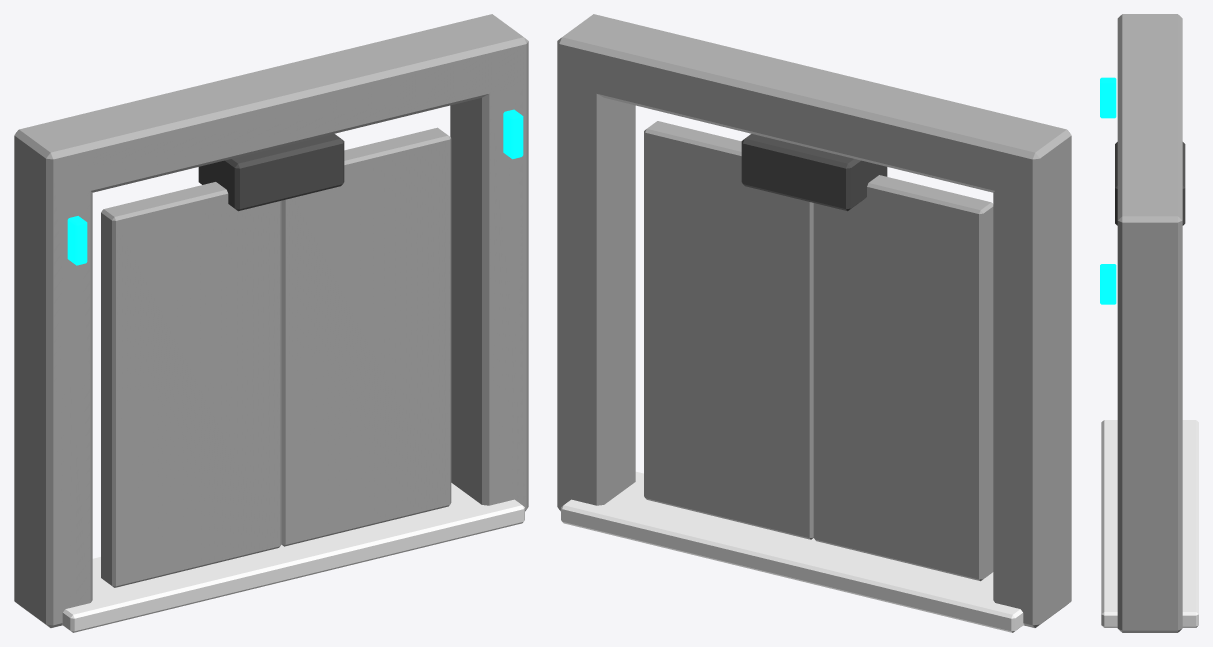
Rendered from pressure_door_1x1.glb.
The picture shows the model from 3 angles, left to right: view 1: azimuth 30°, elevation 25°; view 2: azimuth 150°, elevation 25°; view 3: azimuth 270°, elevation 25°; orthographic projection. The views are drawn at different scales.
Parts seen in each view (by area): view 1: FocusedNine_pressure_door_1x1_split_leaf_left, FocusedNine_pressure_door_1x1_split_leaf_right, FocusedNine_pressure_door_1x1_outer_portal_left, FocusedNine_pressure_door_1x1_outer_portal_lintel, FocusedNine_pressure_door_1x1_outer_portal_right, FocusedNine_pressure_door_1x1_warning_threshold, FocusedNine_pressure_door_1x1_motor_housing, FocusedNine_pressure_door_1x1_cyan_indicator_right, FocusedNine_pressure_door_1x1_cyan_indicator_left; view 2: FocusedNine_pressure_door_1x1_split_leaf_left, FocusedNine_pressure_door_1x1_split_leaf_right, FocusedNine_pressure_door_1x1_outer_portal_left, FocusedNine_pressure_door_1x1_outer_portal_right, FocusedNine_pressure_door_1x1_outer_portal_lintel, FocusedNine_pressure_door_1x1_warning_threshold, FocusedNine_pressure_door_1x1_motor_housing; view 3: FocusedNine_pressure_door_1x1_outer_portal_right, FocusedNine_pressure_door_1x1_outer_portal_lintel, FocusedNine_pressure_door_1x1_warning_threshold, FocusedNine_pressure_door_1x1_outer_portal_left, FocusedNine_pressure_door_1x1_cyan_indicator_left, FocusedNine_pressure_door_1x1_cyan_indicator_right, FocusedNine_pressure_door_1x1_motor_housing.
Boxes of the visible parts, x1,y1,x2,y2 form: FocusedNine_pressure_door_1x1_split_leaf_left: [101, 182, 281, 587]; FocusedNine_pressure_door_1x1_split_leaf_right: [281, 127, 451, 546]; FocusedNine_pressure_door_1x1_outer_portal_left: [14, 120, 92, 627]; FocusedNine_pressure_door_1x1_outer_portal_lintel: [27, 23, 528, 199]; FocusedNine_pressure_door_1x1_outer_portal_right: [450, 14, 528, 511]; FocusedNine_pressure_door_1x1_warning_threshold: [61, 483, 524, 632]; FocusedNine_pressure_door_1x1_motor_housing: [198, 134, 344, 211]; FocusedNine_pressure_door_1x1_cyan_indicator_right: [503, 109, 523, 159]; FocusedNine_pressure_door_1x1_cyan_indicator_left: [67, 216, 87, 265]; FocusedNine_pressure_door_1x1_split_leaf_left: [813, 175, 993, 581]; FocusedNine_pressure_door_1x1_split_leaf_right: [644, 121, 813, 539]; FocusedNine_pressure_door_1x1_outer_portal_left: [993, 120, 1071, 627]; FocusedNine_pressure_door_1x1_outer_portal_right: [557, 14, 635, 511]; FocusedNine_pressure_door_1x1_outer_portal_lintel: [559, 23, 1071, 195]; FocusedNine_pressure_door_1x1_warning_threshold: [561, 471, 1024, 632]; FocusedNine_pressure_door_1x1_motor_housing: [741, 134, 887, 211]; FocusedNine_pressure_door_1x1_outer_portal_right: [1117, 200, 1182, 632]; FocusedNine_pressure_door_1x1_outer_portal_lintel: [1117, 30, 1182, 257]; FocusedNine_pressure_door_1x1_warning_threshold: [1101, 420, 1198, 627]; FocusedNine_pressure_door_1x1_outer_portal_left: [1117, 14, 1182, 33]; FocusedNine_pressure_door_1x1_cyan_indicator_left: [1100, 77, 1116, 118]; FocusedNine_pressure_door_1x1_cyan_indicator_right: [1100, 264, 1116, 304]; FocusedNine_pressure_door_1x1_motor_housing: [1115, 142, 1185, 225].
Size of the model in its own units: 3.61 by 3.4 by 0.73.
